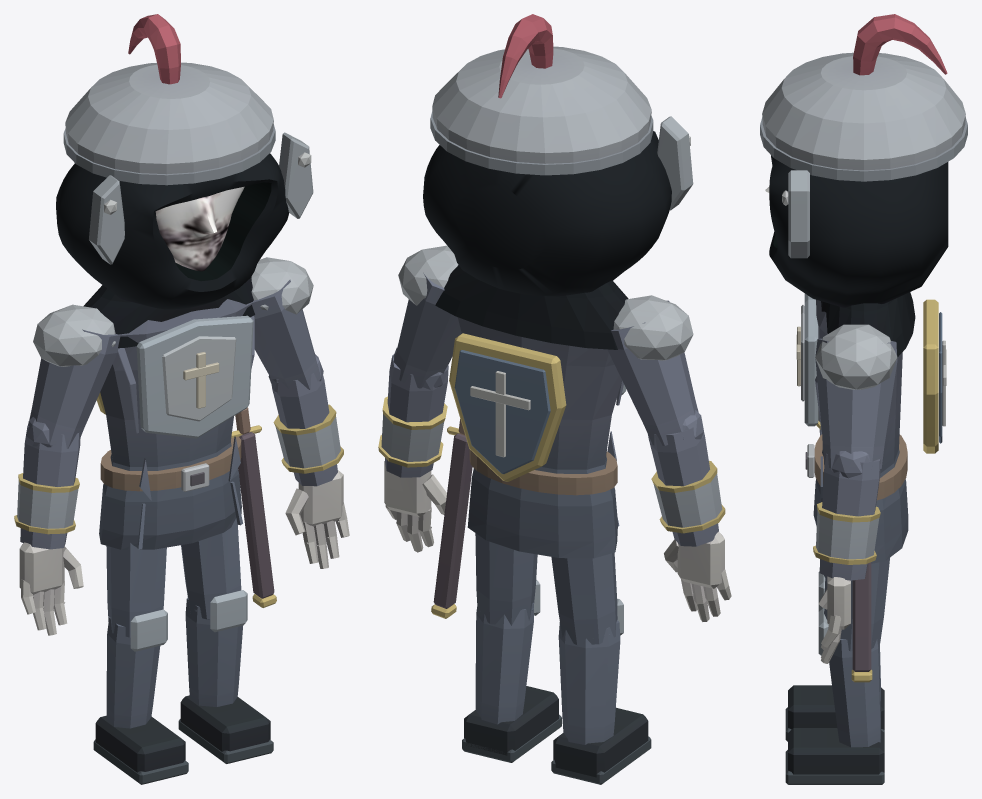
Rendered from HoodedStrangerKnight.glb.
The picture shows the model from 3 angles, left to right: view 1: azimuth 30°, elevation 25°; view 2: azimuth 150°, elevation 25°; view 3: azimuth 270°, elevation 25°; orthographic projection. The views are drawn at different scales.
Visible parts, largest first — view 1: Head, Body, ArmR, ArmL, LegR, LegL, HeadFace; view 2: Head, Body, ArmR, ArmL, LegR, LegL; view 3: Head, ArmL, Body, LegL, LegR.
Boxes of the visible parts, x1,y1,x2,y2 form: Head: (56, 14, 313, 348); Body: (96, 299, 276, 607); ArmR: (14, 304, 120, 635); ArmL: (251, 257, 349, 568); LegR: (93, 543, 188, 784); LegL: (178, 518, 273, 763); HeadFace: (155, 186, 244, 271); Head: (423, 14, 693, 349); Body: (431, 317, 626, 618); ArmR: (607, 295, 731, 621); ArmL: (378, 245, 461, 552); LegR: (551, 552, 651, 784); LegL: (462, 533, 561, 762); Head: (760, 14, 967, 357); ArmL: (813, 324, 897, 663); Body: (796, 293, 946, 682); LegL: (785, 558, 889, 784); LegR: (785, 571, 884, 741).
Size of the model in its own units: 3.74 by 7.9 by 2.02.
2 materials, 1 textured.
